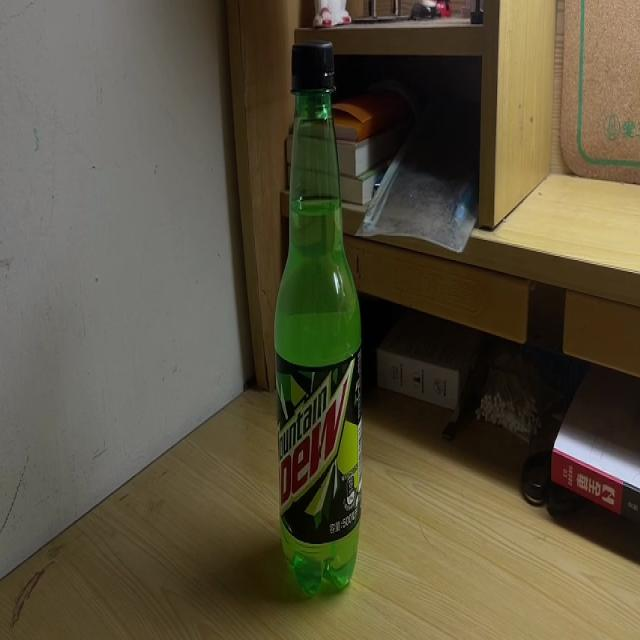Mountain-Dew: (273, 40, 362, 603)
